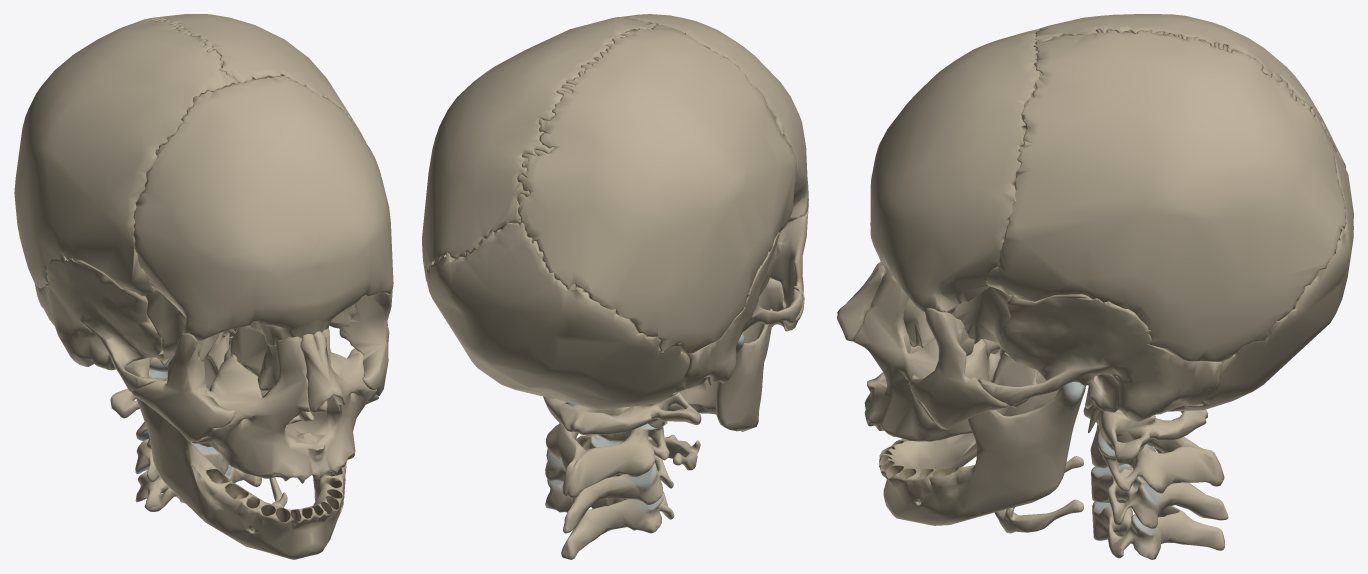
Rendered from osso.glb.
3 renders of one model, left to right at view 1: azimuth 30°, elevation 25°; view 2: azimuth 150°, elevation 25°; view 3: azimuth 270°, elevation 25°, orthographic. The views are drawn at different scales.
Parts seen in each view (by area): view 1: Frontal bone, Parietal bone.r, Mandible, Maxilla.r, Temporal bone.r, Parietal bone.l, Zygomatic bone.r, Maxilla.l, Sphenoid bone, Zygomatic bone.l, Nasal bone.r, Vertebra C4 (+5 smaller); view 2: Parietal bone.r, Occipital bone, Parietal bone.l, Axis (C2), Frontal bone, Mandible, Temporal bone.r, Vertebra C4, Vertebra C3, Atlas (C1), Zygomatic bone.r, Maxilla.r (+1 smaller); view 3: Parietal bone.l, Frontal bone, Temporal bone.l, Mandible, Maxilla.l, Occipital bone, Parietal bone.r, Zygomatic bone.l, Axis (C2), Vertebra C4, Vertebra C3, Sphenoid bone (+4 smaller).
Part boxes in pixels (bbox=[...]): Frontal bone: bbox=[133, 75, 393, 346]; Parietal bone.r: bbox=[14, 17, 238, 296]; Mandible: bbox=[125, 326, 346, 559]; Maxilla.r: bbox=[192, 336, 320, 483]; Temporal bone.r: bbox=[34, 256, 163, 391]; Parietal bone.l: bbox=[147, 14, 380, 174]; Zygomatic bone.r: bbox=[132, 333, 235, 441]; Maxilla.l: bbox=[288, 328, 378, 478]; Sphenoid bone: bbox=[145, 287, 356, 389]; Zygomatic bone.l: bbox=[339, 288, 392, 396]; Nasal bone.r: bbox=[300, 334, 333, 412]; Vertebra C4: bbox=[135, 464, 261, 511]; Parietal bone.r: bbox=[517, 24, 796, 353]; Occipital bone: bbox=[426, 222, 689, 409]; Parietal bone.l: bbox=[422, 17, 656, 282]; Axis (C2): bbox=[546, 402, 669, 498]; Frontal bone: bbox=[622, 14, 808, 222]; Mandible: bbox=[668, 308, 772, 431]; Temporal bone.r: bbox=[676, 230, 803, 392]; Vertebra C4: bbox=[545, 477, 674, 559]; Vertebra C3: bbox=[545, 434, 673, 533]; Atlas (C1): bbox=[543, 392, 701, 434]; Zygomatic bone.r: bbox=[770, 209, 808, 330]; Maxilla.r: bbox=[742, 278, 788, 342]; Parietal bone.l: bbox=[986, 29, 1346, 361]; Frontal bone: bbox=[870, 29, 1042, 313]; Temporal bone.l: bbox=[978, 294, 1222, 433]; Mandible: bbox=[879, 372, 1085, 525]; Maxilla.l: bbox=[853, 272, 989, 441]; Occipital bone: bbox=[1168, 148, 1353, 411]; Parietal bone.r: bbox=[1035, 14, 1345, 167]; Zygomatic bone.l: bbox=[909, 308, 1008, 429]; Axis (C2): bbox=[1090, 424, 1224, 493]; Vertebra C4: bbox=[1092, 476, 1224, 559]; Vertebra C3: bbox=[1091, 444, 1228, 528]; Sphenoid bone: bbox=[951, 286, 1038, 407].
Size of the model in its own units: 0.1487 by 0.2249 by 0.2036.
